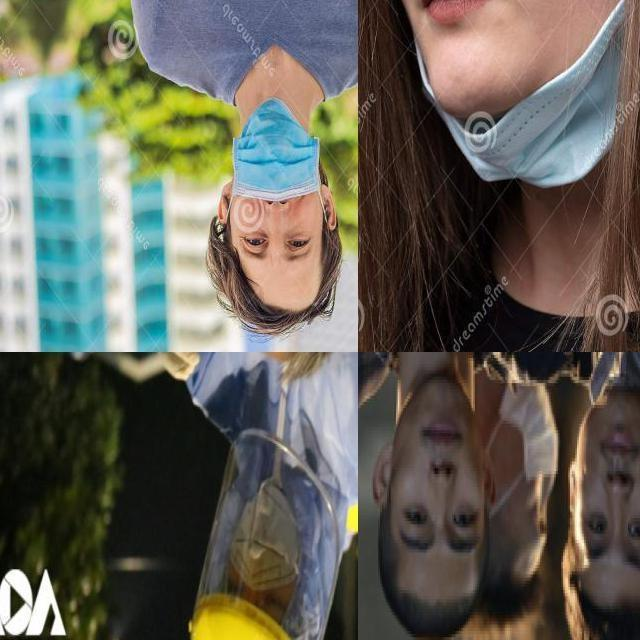hairnet: (399, 0, 629, 196), (228, 96, 327, 224)
no_gloves: (208, 249, 343, 331), (374, 554, 489, 638), (559, 554, 640, 640)
no_hairnet: (387, 378, 494, 507), (569, 368, 638, 511)
